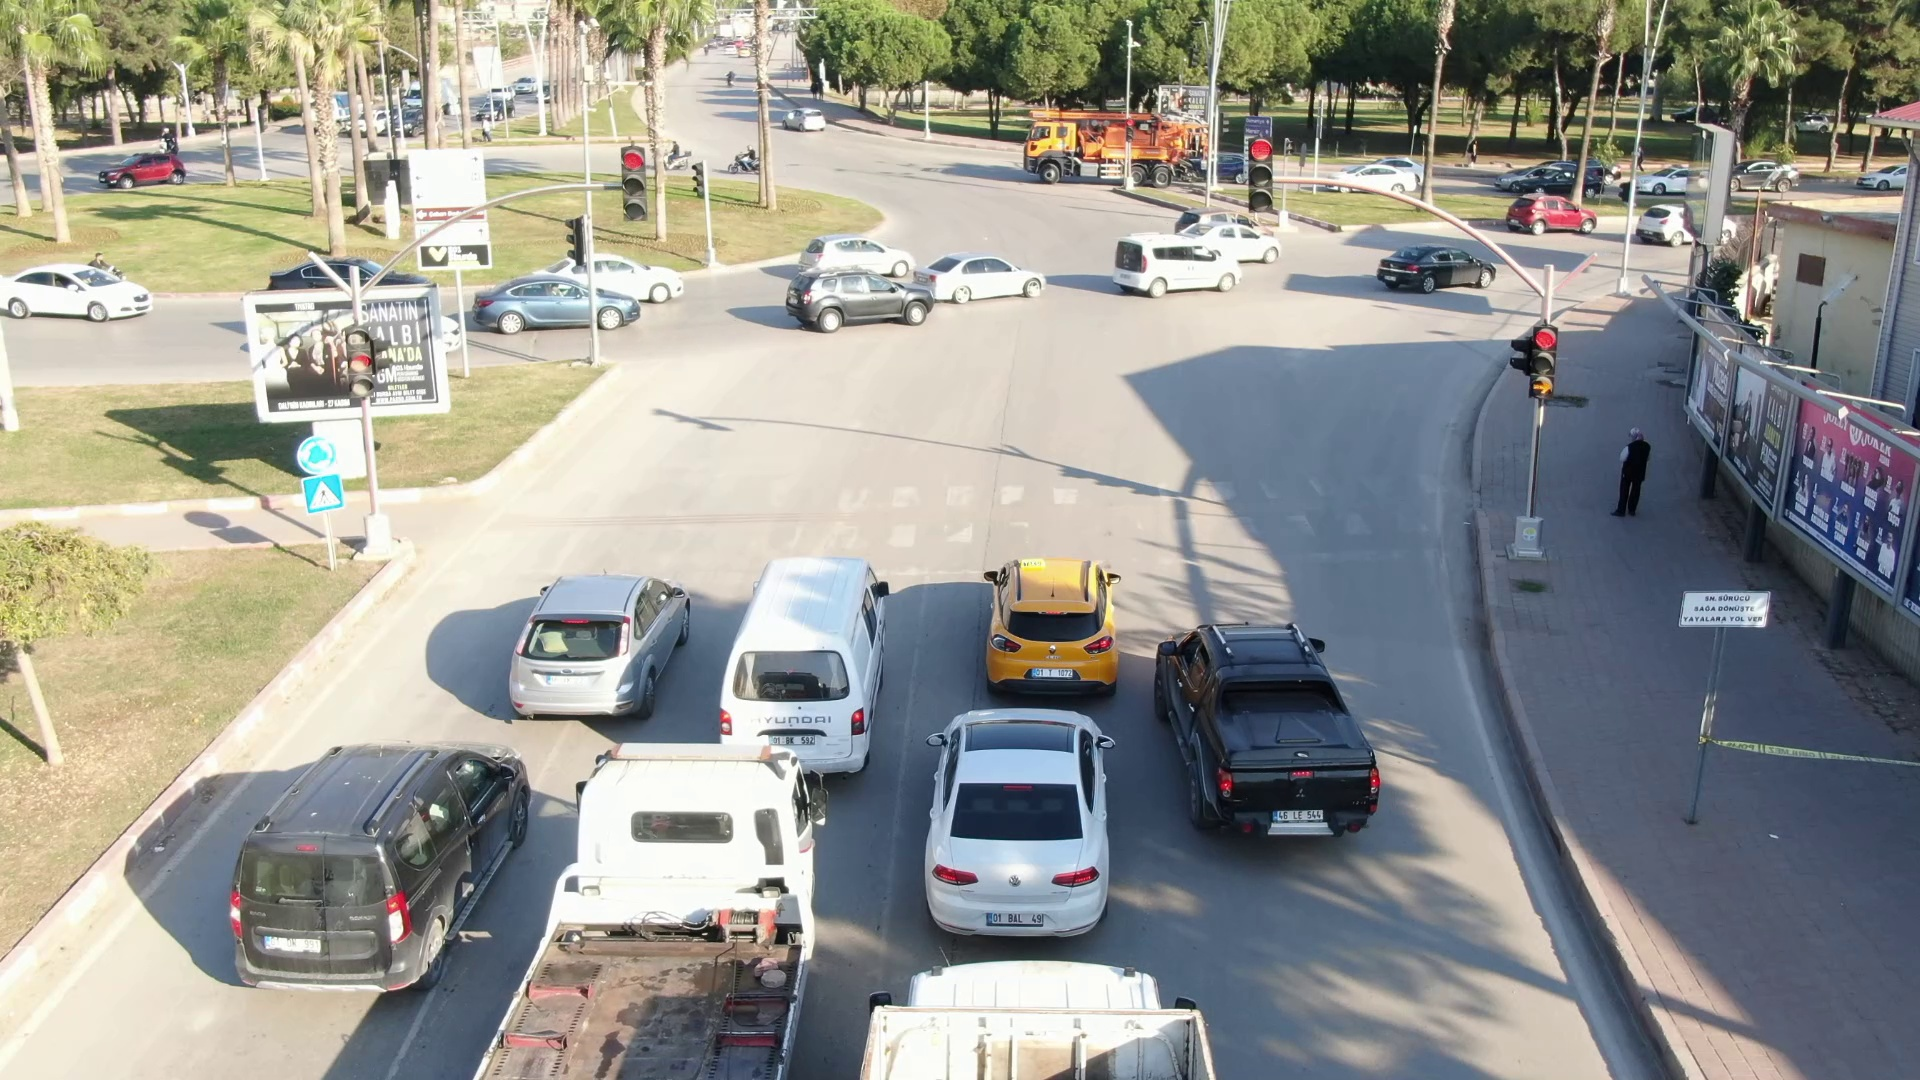car: (222, 731, 538, 996), (1149, 615, 1382, 835), (920, 705, 1116, 936), (498, 568, 695, 729), (981, 555, 1125, 702), (781, 268, 935, 335), (469, 274, 640, 335), (1, 261, 152, 320), (1109, 235, 1244, 299), (913, 249, 1048, 309), (1377, 236, 1494, 301), (1505, 193, 1600, 237), (99, 146, 186, 189), (1520, 167, 1607, 196), (777, 103, 829, 137)
